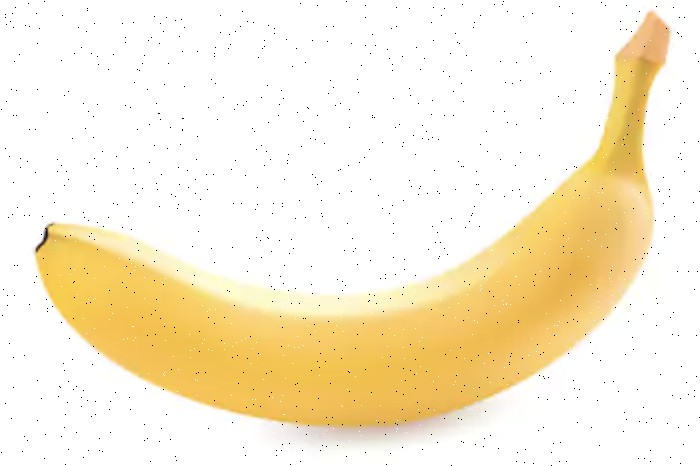fresh_banana: (38, 12, 673, 430)
